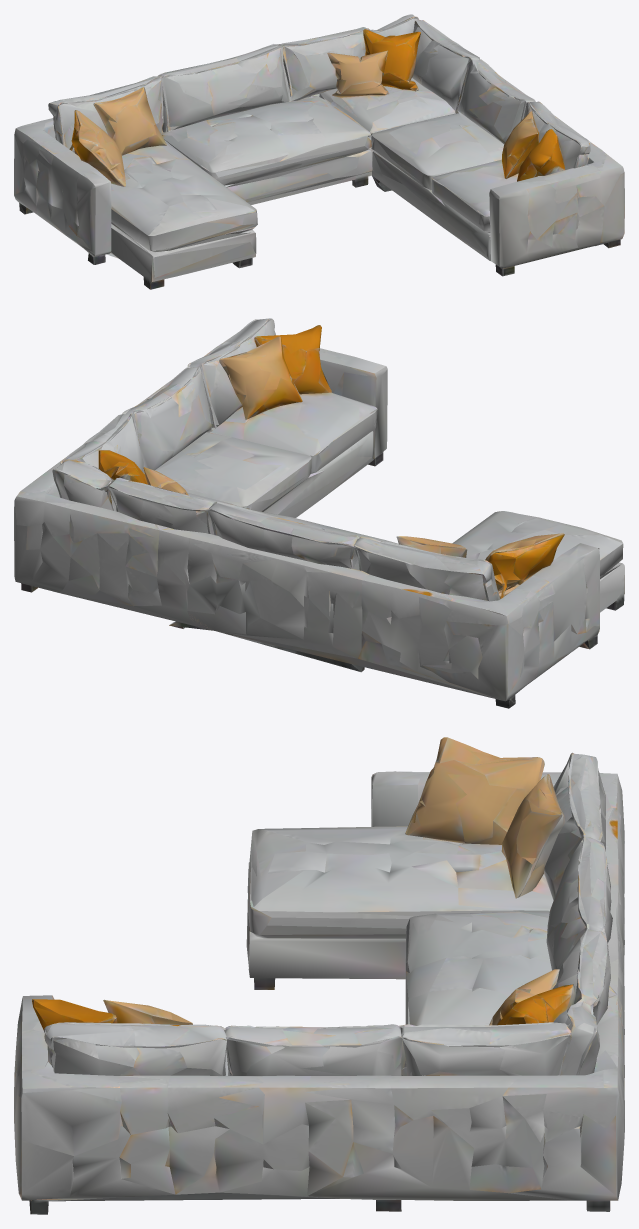
Rendered from sectional-v1.glb.
3 views of the same model, one above another, from view 1: azimuth 30°, elevation 25°; view 2: azimuth 150°, elevation 25°; view 3: azimuth 270°, elevation 25° (orthographic). The views are drawn at different scales.
Size of the model in its own units: 2.49 by 0.6151 by 2.
Materials: 1 (1 with a texture image).
